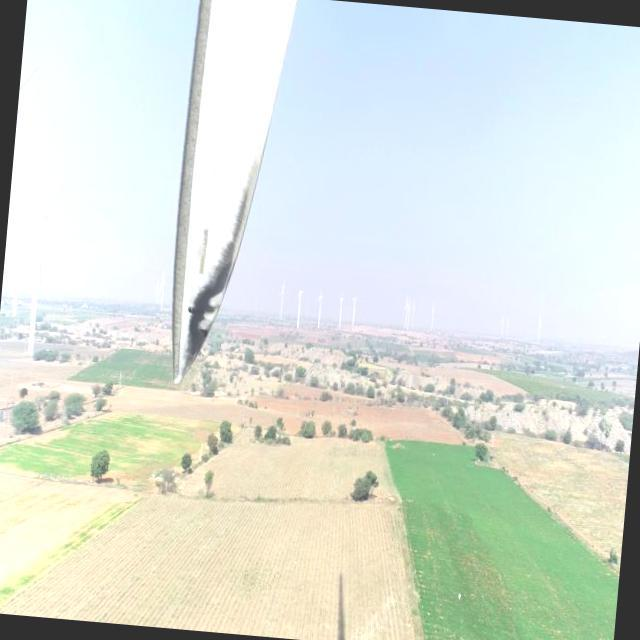Dirt: (196, 222, 212, 278)
Oil LEAKAGE: (185, 167, 257, 365)
